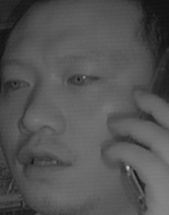eye: (65, 68, 102, 91), (4, 73, 33, 95)
mouth: (17, 141, 77, 180)
